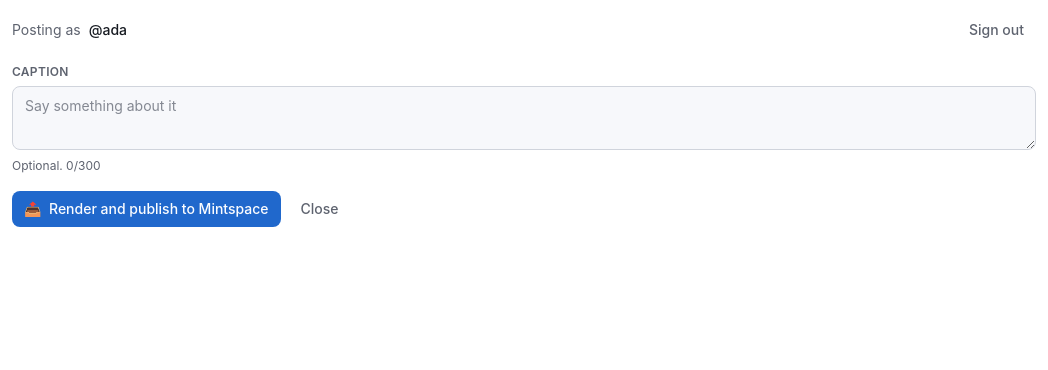
Scenario: publishing › confirms it is up, and links the file when the build knows no site
The width and height of the screenshot is (1048, 370).
What coordinates should you click on to do the following:
click the button "📤 Render and publish to Mintspace"
I would click on:
 (146, 209)
Its box is [12,191,281,227].
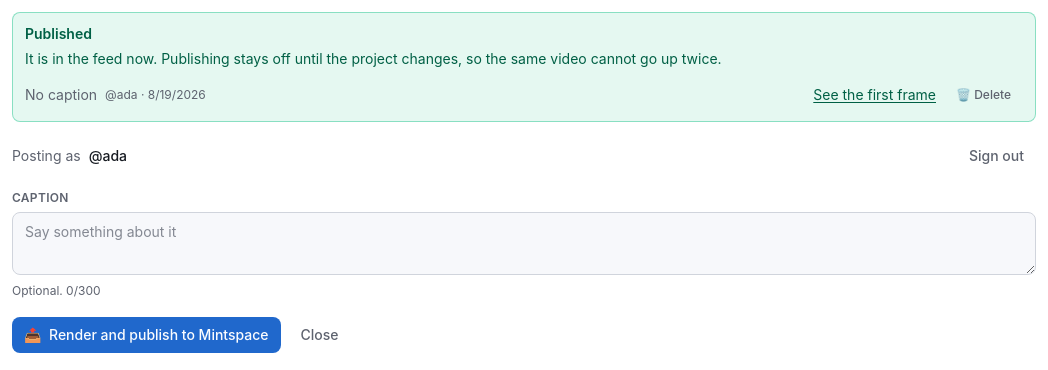
Expected: the text "Published" is shown, [25,25,92,42]
